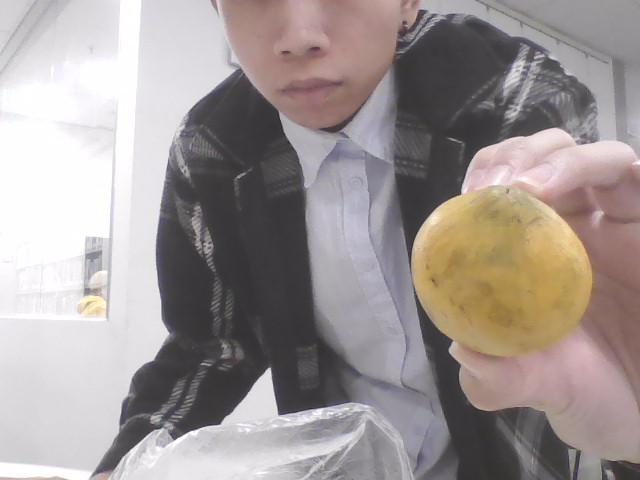lemon: (410, 184, 593, 352)
